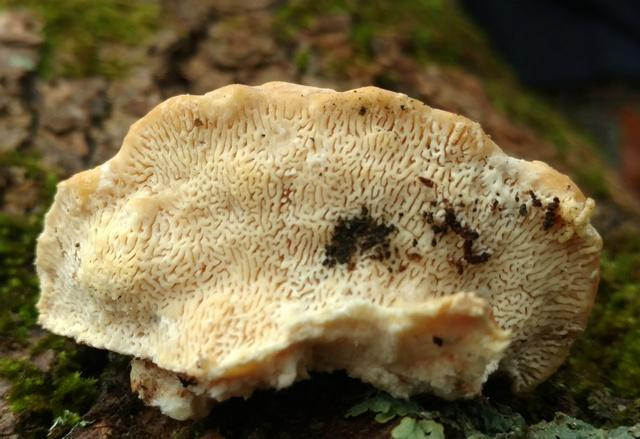Non-edible Mushroom: (32, 79, 604, 421)
